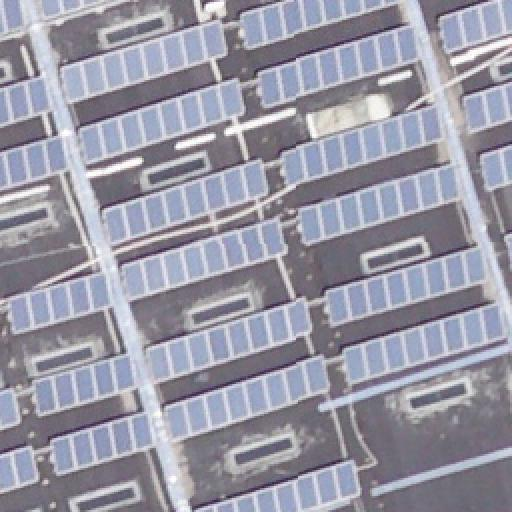solar-panel: (161, 352, 335, 444), (101, 155, 275, 245), (146, 295, 318, 385), (120, 215, 292, 305), (76, 77, 252, 163), (294, 161, 466, 247), (57, 18, 231, 102), (279, 104, 449, 188), (253, 25, 419, 111), (340, 300, 508, 384), (325, 246, 491, 326), (192, 457, 368, 511), (238, 0, 406, 48), (30, 352, 142, 416), (49, 410, 159, 474), (5, 270, 115, 334), (0, 131, 72, 189), (436, 0, 512, 52), (0, 73, 56, 127), (457, 77, 511, 131), (0, 443, 40, 493), (476, 145, 512, 191), (0, 385, 26, 431), (42, 0, 102, 16), (1, 0, 31, 32), (504, 232, 512, 256)
